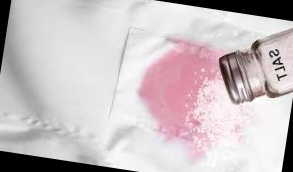wine: (139, 45, 205, 141), (170, 40, 224, 77)
